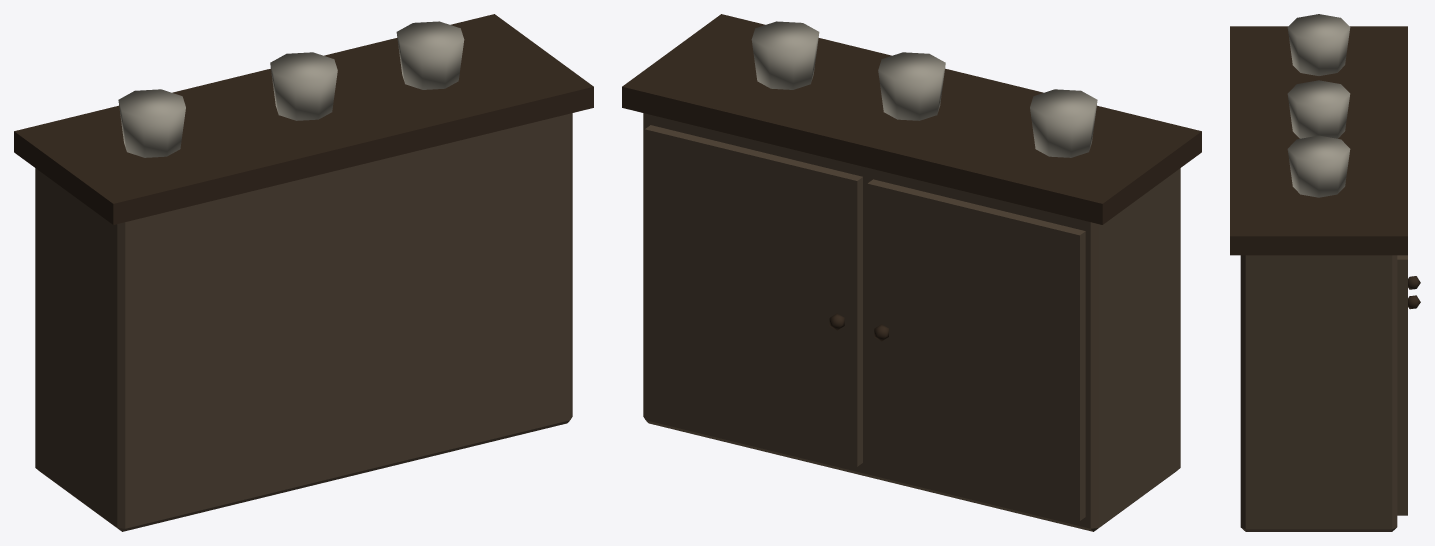
File: wall_cabinet.glb
3 views of the same model, side by side, from view 1: azimuth 30°, elevation 25°; view 2: azimuth 150°, elevation 25°; view 3: azimuth 270°, elevation 25° (orthographic). The views are drawn at different scales.
Parts seen in each view (by area): view 1: wall_cabinet; view 2: wall_cabinet; view 3: wall_cabinet.
Part boxes in pixels (box(x1,y1,x2,y2)): wall_cabinet: box(14, 14, 593, 531); wall_cabinet: box(622, 14, 1201, 531); wall_cabinet: box(1230, 14, 1420, 531).
Size of the model in its own units: 0.95 by 0.72 by 0.365.
